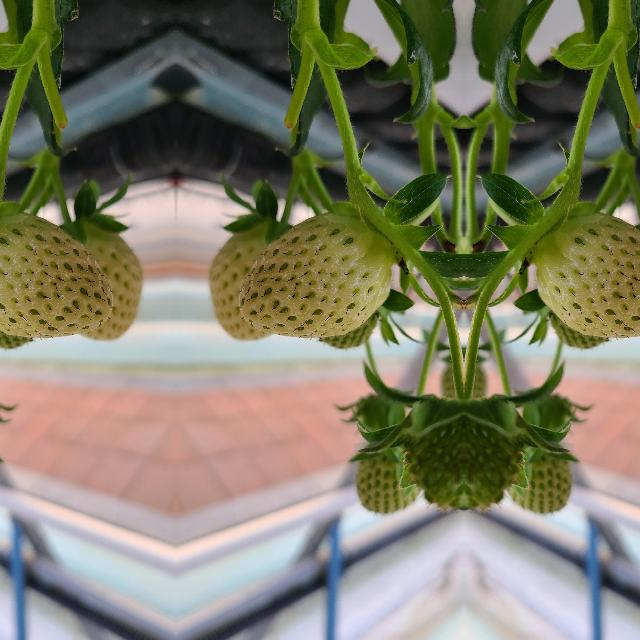Health_25: (236, 214, 392, 338), (0, 214, 113, 338), (534, 214, 640, 338), (354, 436, 422, 514), (504, 436, 572, 514)
